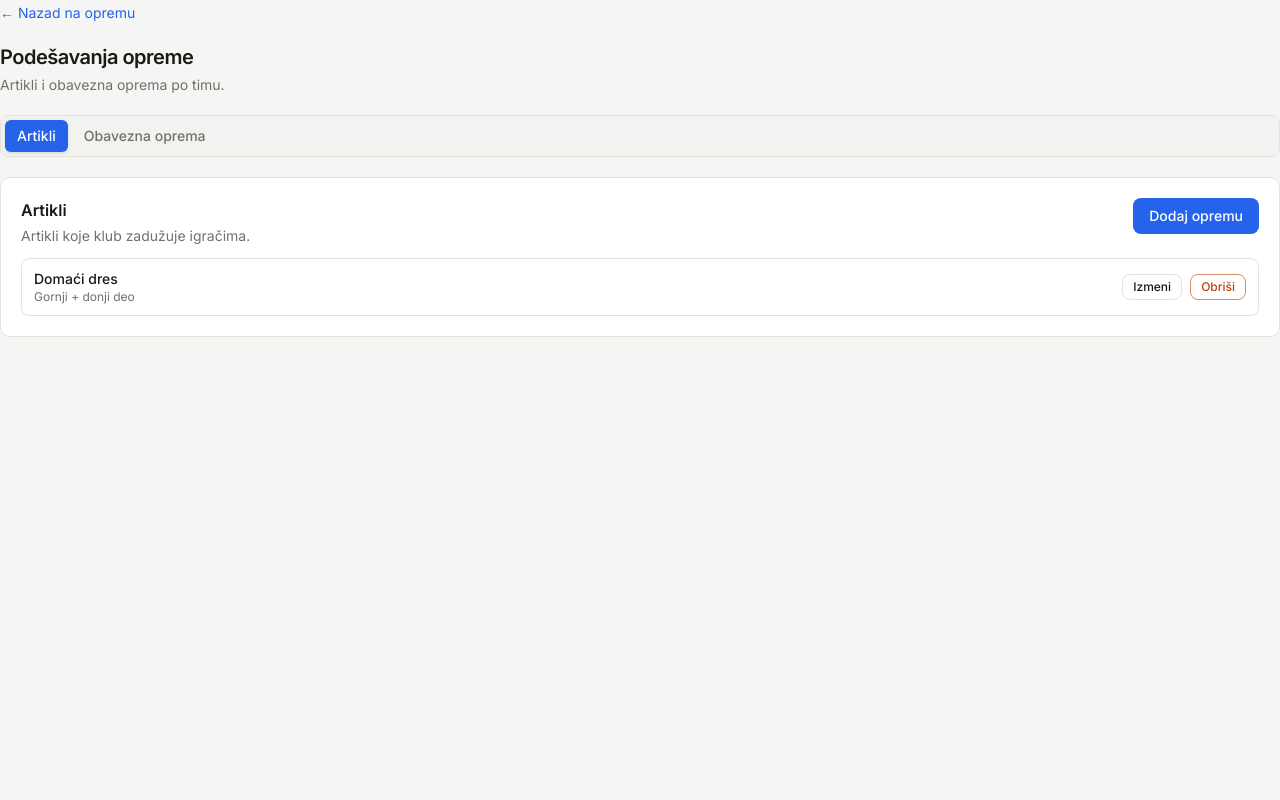
Test: Equipment settings tabs › infers the existing size mode when editing an article
Click the button "Izmeni".
click(1152, 287)  # box [1122,274,1182,300]
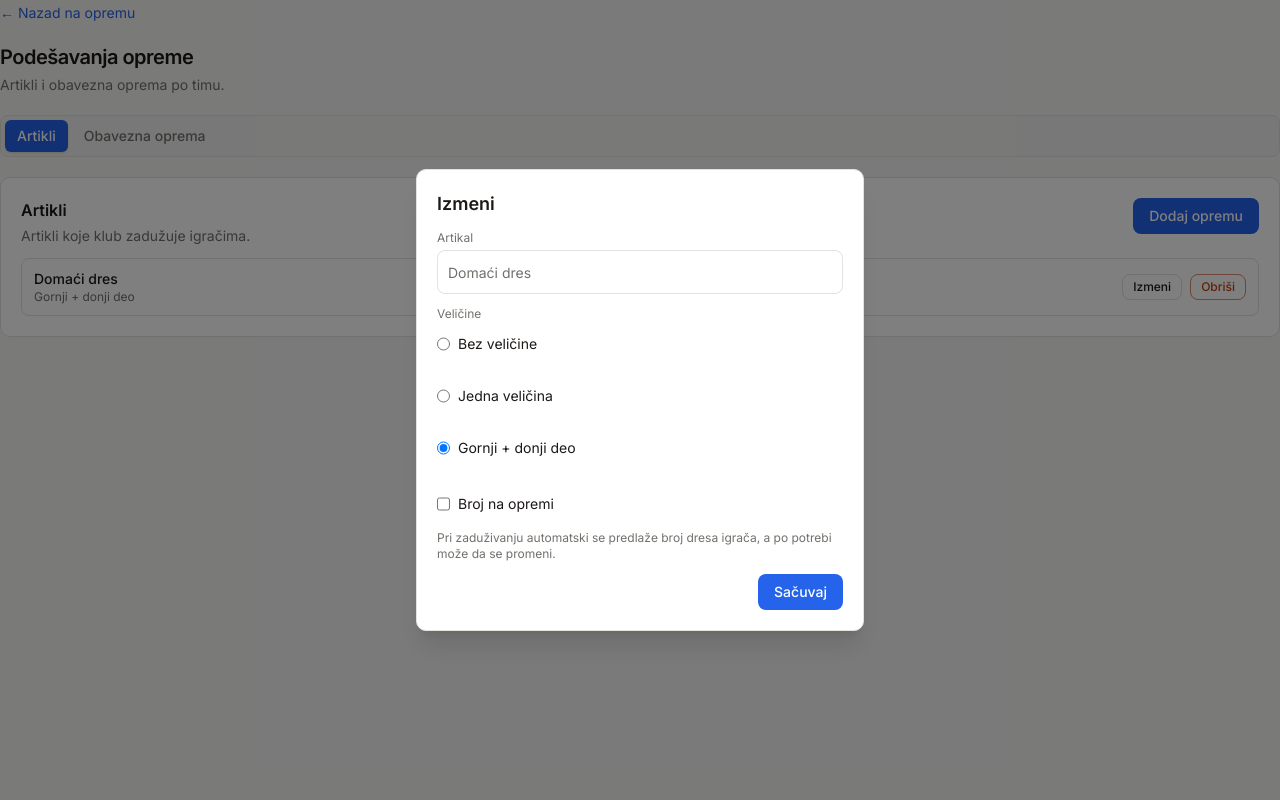
expect the radio button labelled "Gornji + donji deo" is checked: met, box [437,426,450,470]
